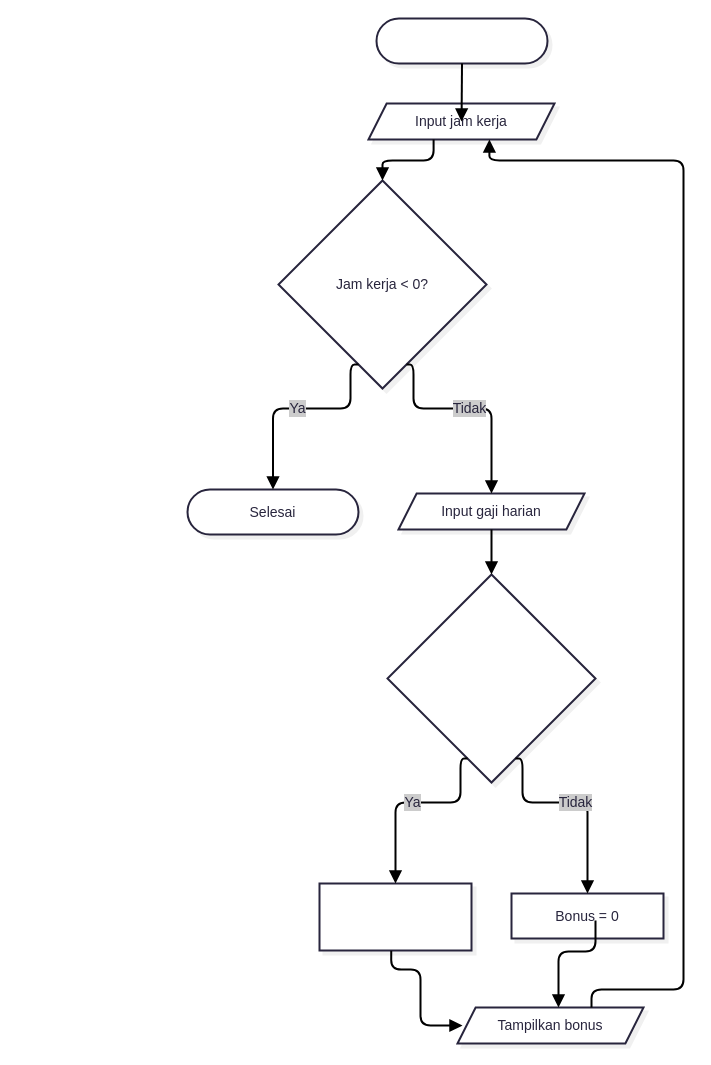
Image size: 711x1065. Some labels were removed from this diagram. Each missing label, with the centre of its shape:
Bonus = 20% x gaji harian: the point at 397,918
Jam kerja > 8?: the point at 493,680
Mulai: the point at 463,42
